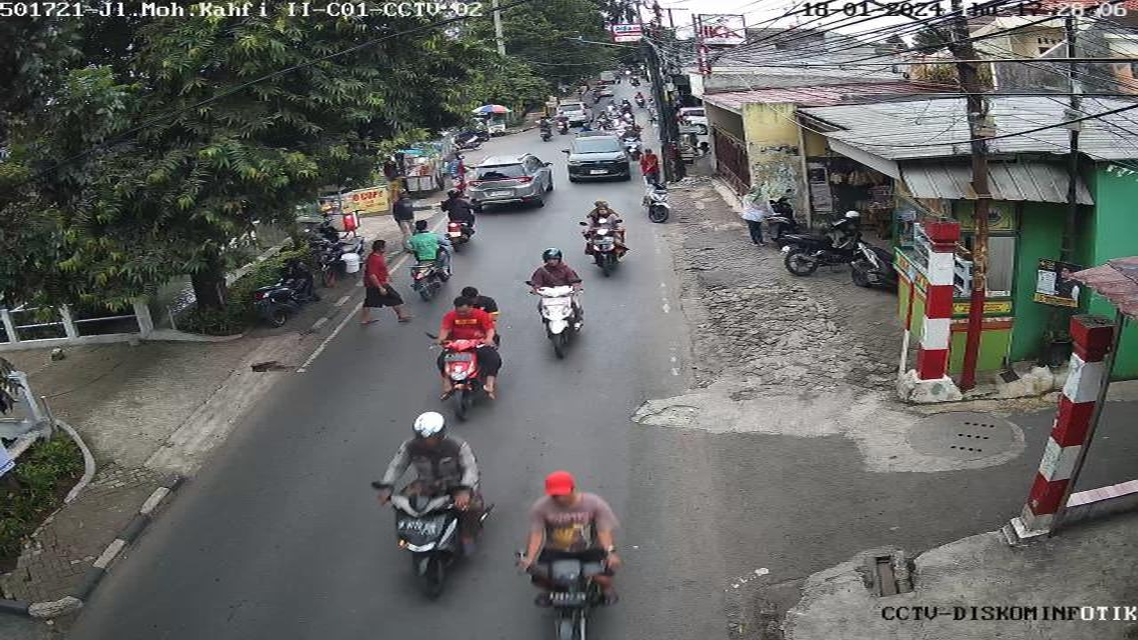Gerobak: (302, 175, 370, 242), (393, 143, 448, 198), (471, 103, 514, 140)
